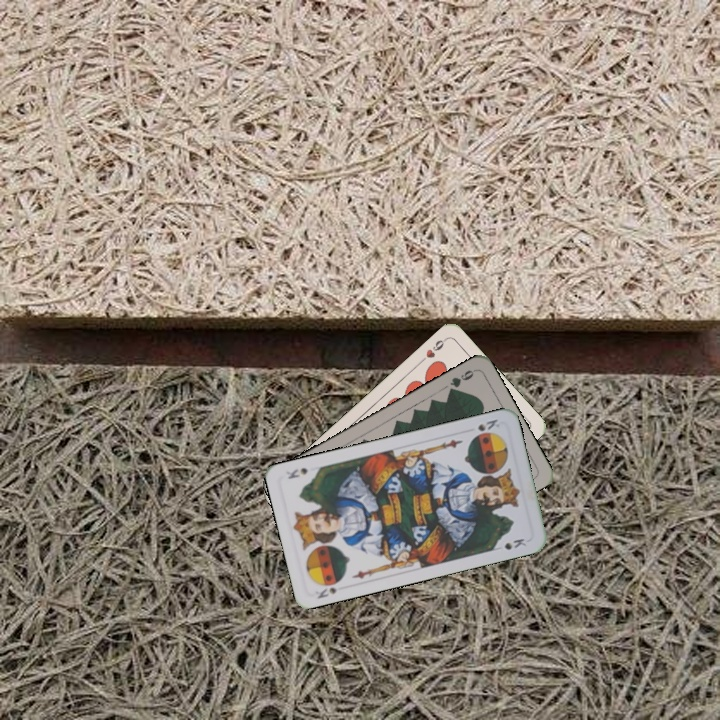G9: (444, 366, 478, 397)
H9: (416, 334, 449, 365)
SK: (474, 415, 502, 434), (311, 583, 339, 601)
